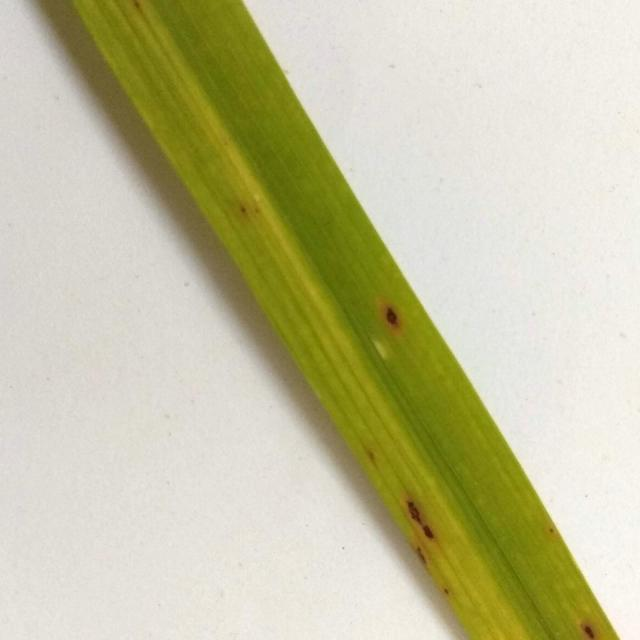Leaf_Blast: (375, 431, 504, 621), (358, 260, 439, 377)
